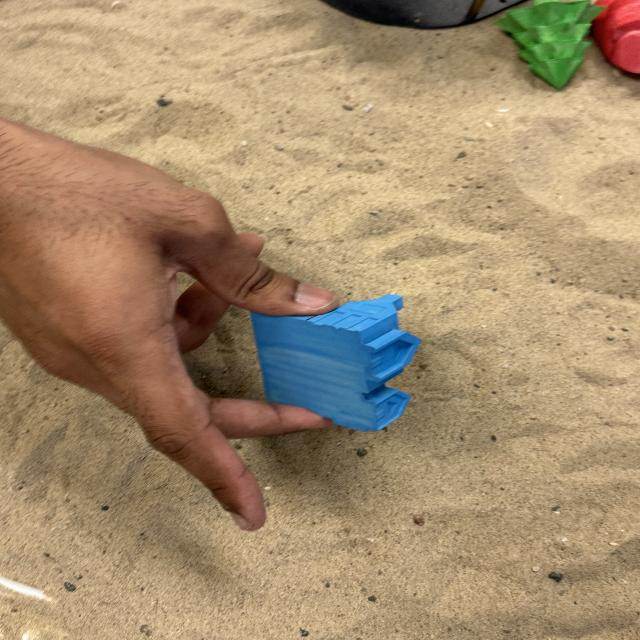house: (247, 292, 422, 432)
tree: (492, 0, 607, 91)
